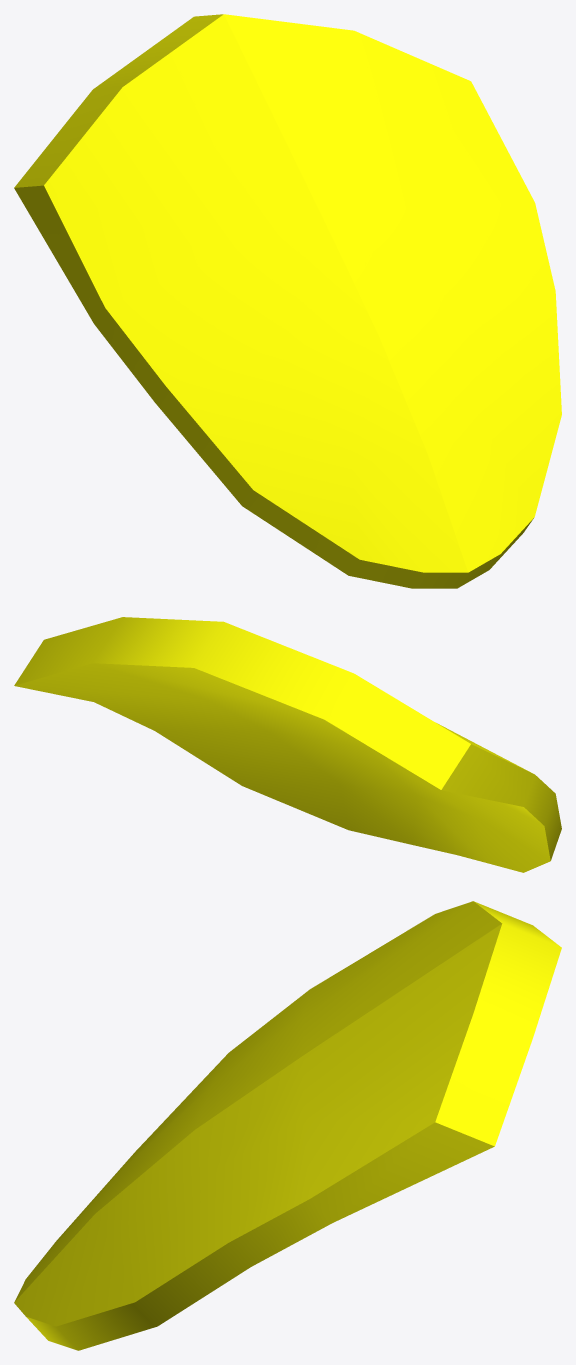
The model's file is shield.glb.
3 views of the same model, one above another, from view 1: azimuth 30°, elevation 25°; view 2: azimuth 150°, elevation 25°; view 3: azimuth 270°, elevation 25° (orthographic).
Parts seen in each view (by area): view 1: shield; view 2: shield; view 3: shield.
Part boxes in pixels (bbox=[...]): shield: bbox=[14, 14, 561, 588]; shield: bbox=[14, 617, 561, 872]; shield: bbox=[14, 901, 561, 1350].
Bounding box in the file's own units: 0.547 × 0.4911 × 0.6042.
1 material, 1 textured.
